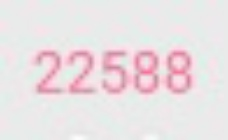TextView: (1, 1, 227, 139)
